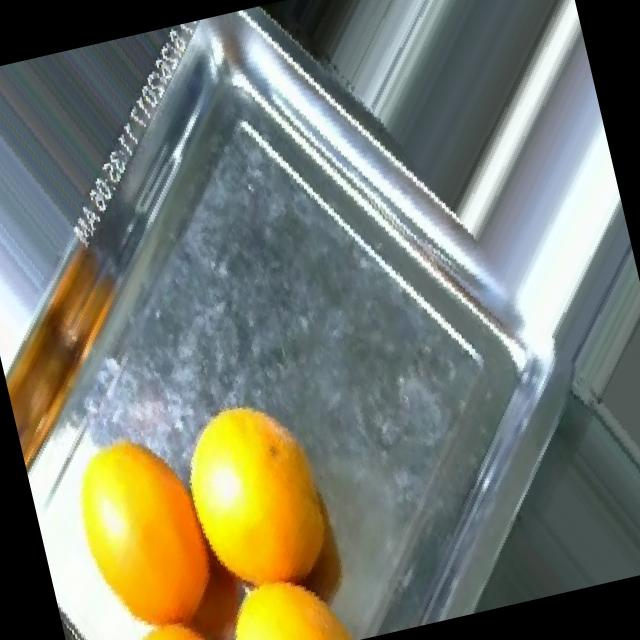Fruit: (151, 360, 361, 608), (222, 0, 406, 94)
